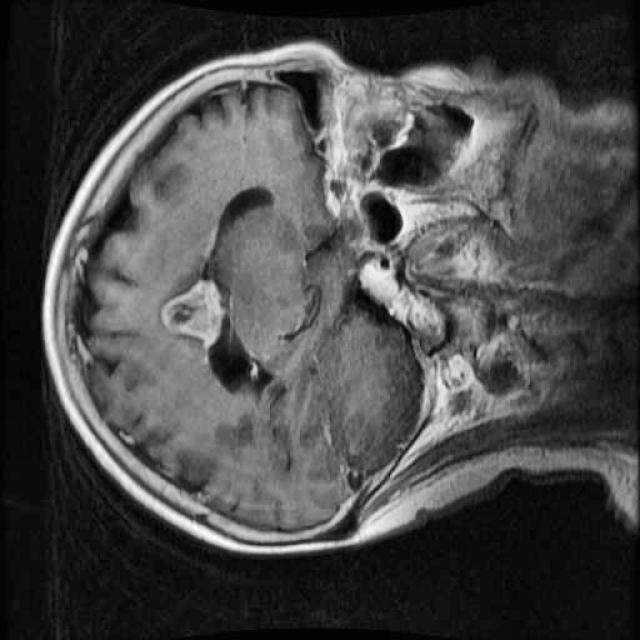Tumor: (148, 260, 238, 365)
